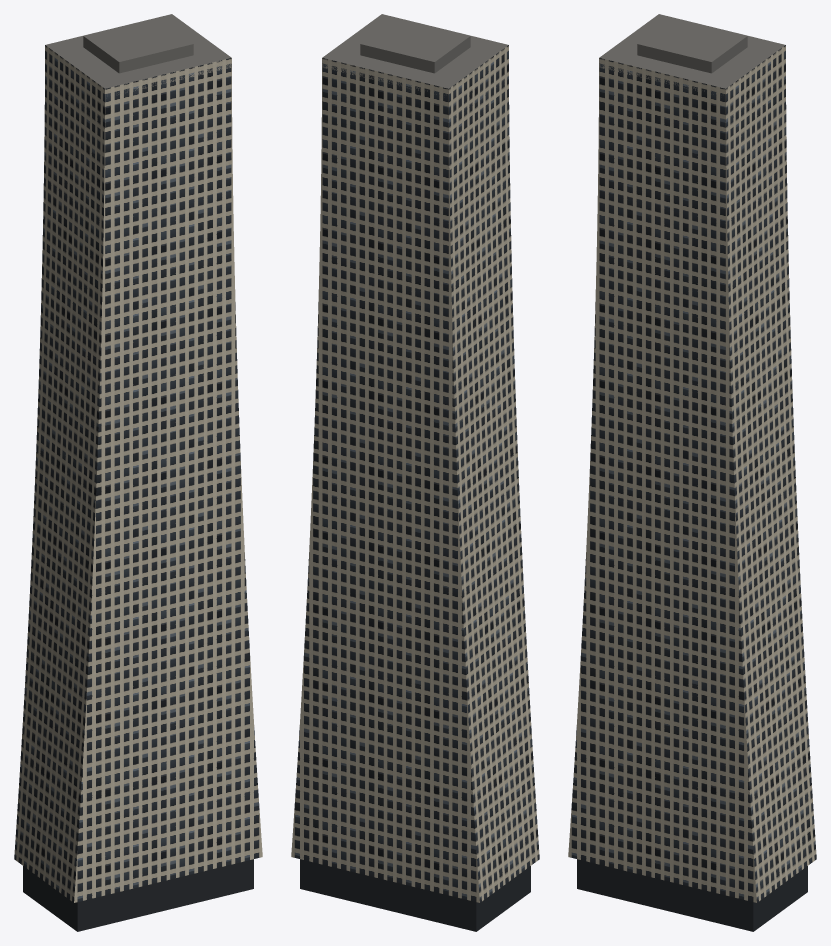
Rendered from chase_tower.glb.
3 views of the same model, side by side, from view 1: azimuth 30°, elevation 25°; view 2: azimuth 150°, elevation 25°; view 3: azimuth 330°, elevation 25° (orthographic).
Parts seen in each view (by area): view 1: chase_tower; view 2: chase_tower; view 3: chase_tower.
Boxes of the visible parts, x1,y1,x2,y2 form: chase_tower: (14,14,262,931); chase_tower: (291,14,539,931); chase_tower: (568,14,816,931).
Size of the model in its own units: 61 by 263 by 33.5.
Materials: 2 (2 with a texture image).
